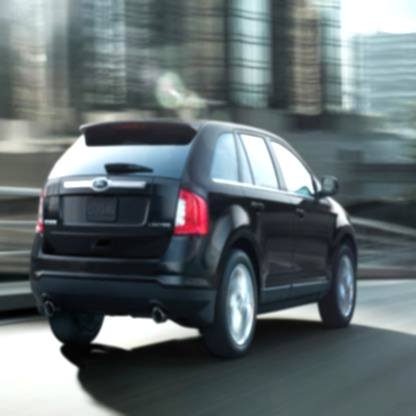Vehicle: (30, 118, 358, 359)
